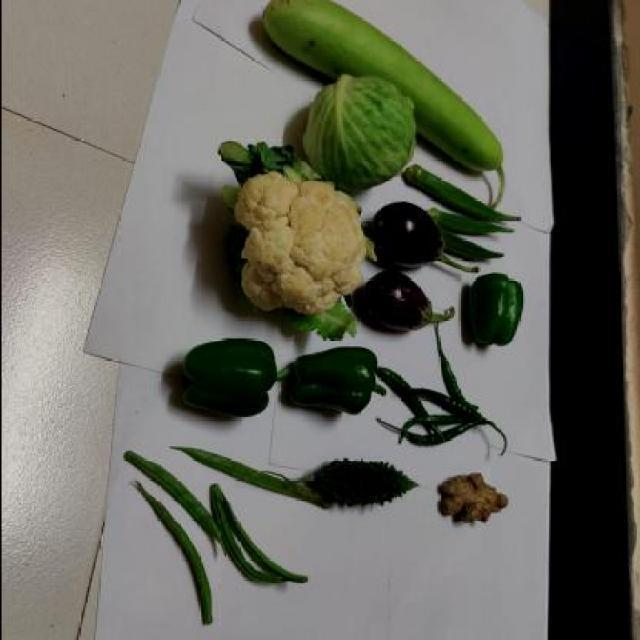Bitter melon: (300, 457, 417, 503)
Brinjal: (364, 269, 450, 334), (372, 203, 446, 274)
Cabbage: (306, 71, 419, 191)
Capsicum: (174, 334, 276, 423), (283, 342, 379, 416), (464, 270, 524, 348)
Cauliflower: (222, 149, 362, 331)
Ginger: (434, 470, 514, 530)
Green Chili: (388, 366, 492, 437)
Lady finger: (434, 190, 518, 258)
